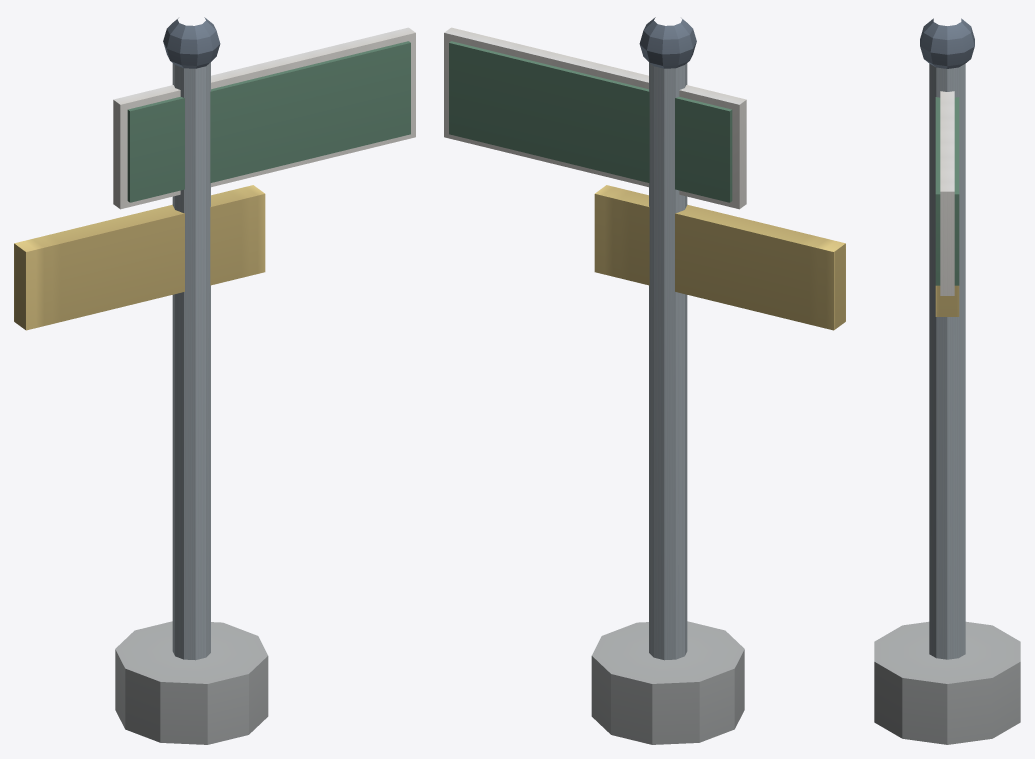
The model's file is street_sign.glb.
The picture shows the model from 3 angles, left to right: view 1: azimuth 30°, elevation 25°; view 2: azimuth 150°, elevation 25°; view 3: azimuth 270°, elevation 25°; orthographic projection.
Visible parts, largest first — view 1: street_sign; view 2: street_sign; view 3: street_sign.
Boxes of the visible parts, x1,y1,x2,y2 form: street_sign: [14, 17, 415, 744]; street_sign: [444, 17, 845, 744]; street_sign: [874, 18, 1020, 744].
Size of the model in its own units: 1.88 by 3.2 by 0.6087.
1 material, 1 textured.
